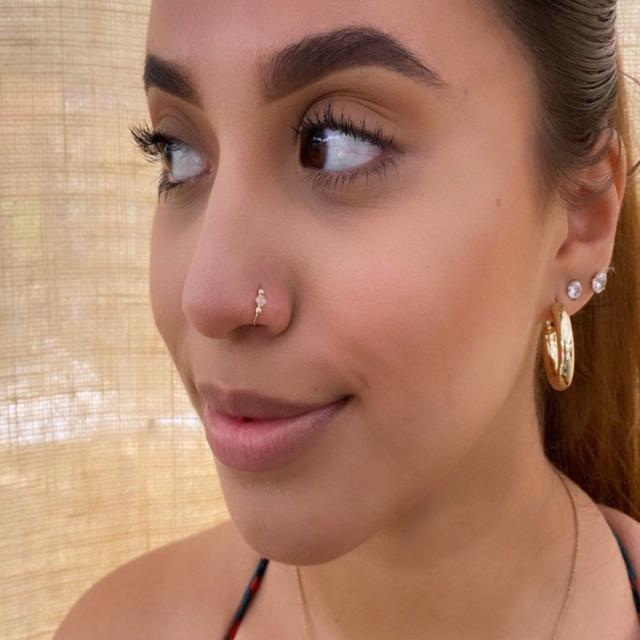Earring: (522, 298, 594, 399), (554, 265, 610, 302)
